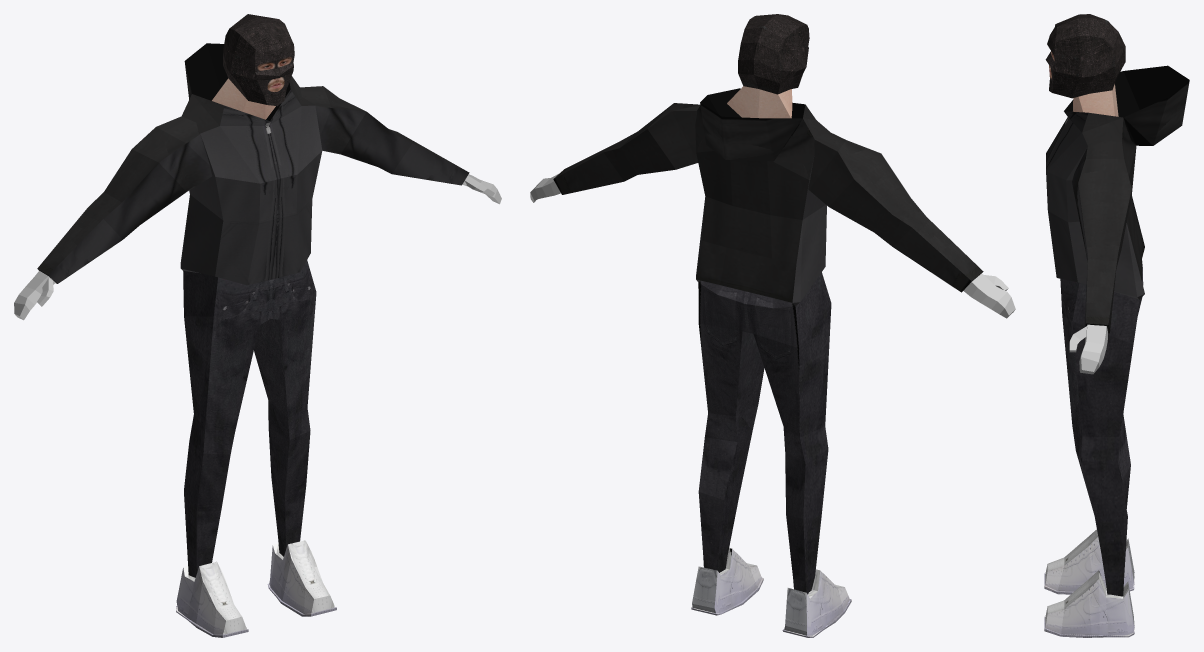
The model's file is MYLOWPOLYBURGALAR_justmodel.fbx.
3 views of the same model, side by side, from view 1: azimuth 30°, elevation 25°; view 2: azimuth 150°, elevation 25°; view 3: azimuth 270°, elevation 25° (orthographic).
Parts seen in each view (by area): view 1: Daniel; view 2: Daniel; view 3: Daniel.
Boxes of the visible parts, x1,y1,x2,y2 form: Daniel: (14,14,501,637); Daniel: (530,14,1015,637); Daniel: (1044,14,1189,637).
Bounding box in the file's own units: 321 × 84.55 × 379.
